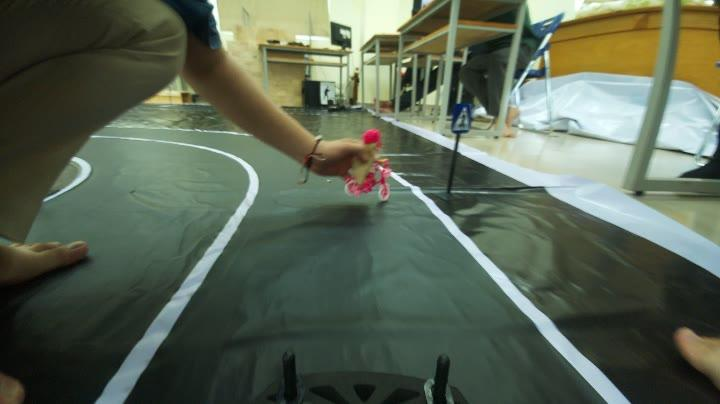crosswalk: (441, 100, 477, 136)
